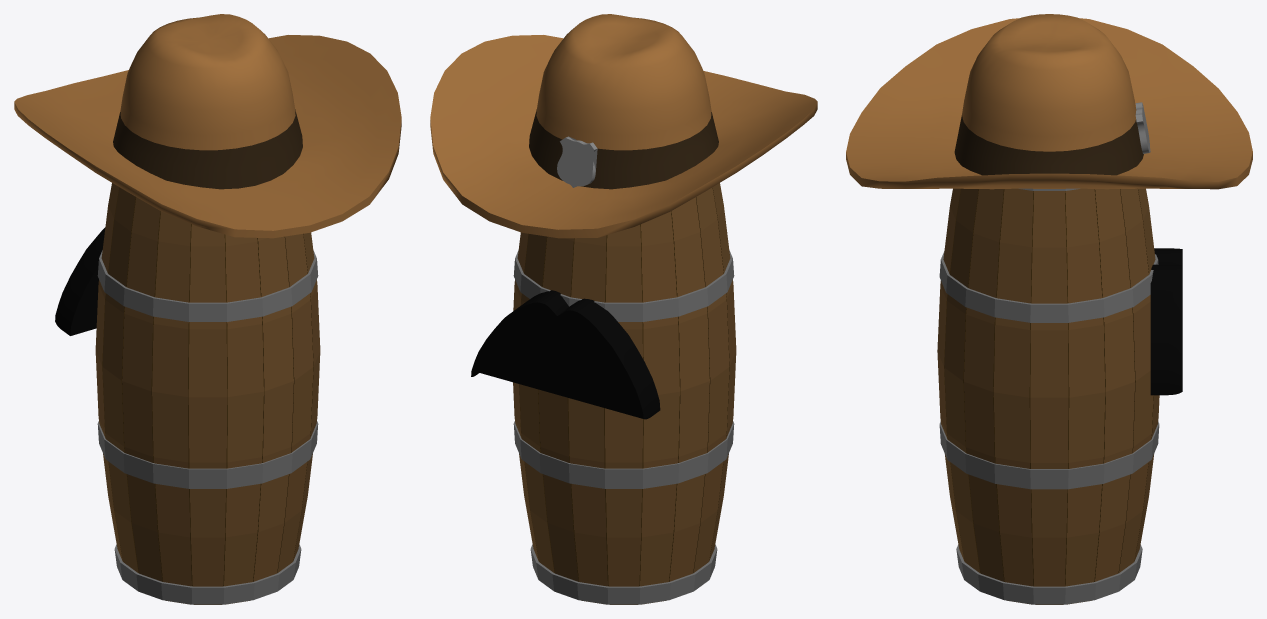
The model's file is barrel deputy 1.fbx.
3 views of the same model, side by side, from view 1: azimuth 30°, elevation 25°; view 2: azimuth 150°, elevation 25°; view 3: azimuth 270°, elevation 25° (orthographic).
Visible parts, largest first — view 1: barrel deputy 1; view 2: barrel deputy 1; view 3: barrel deputy 1.
Part boxes in pixels (x1,y1,x2,y2): barrel deputy 1: [14, 14, 401, 604]; barrel deputy 1: [430, 14, 817, 604]; barrel deputy 1: [846, 14, 1252, 604].
Size of the model in its own units: 674 by 1059 by 732.
